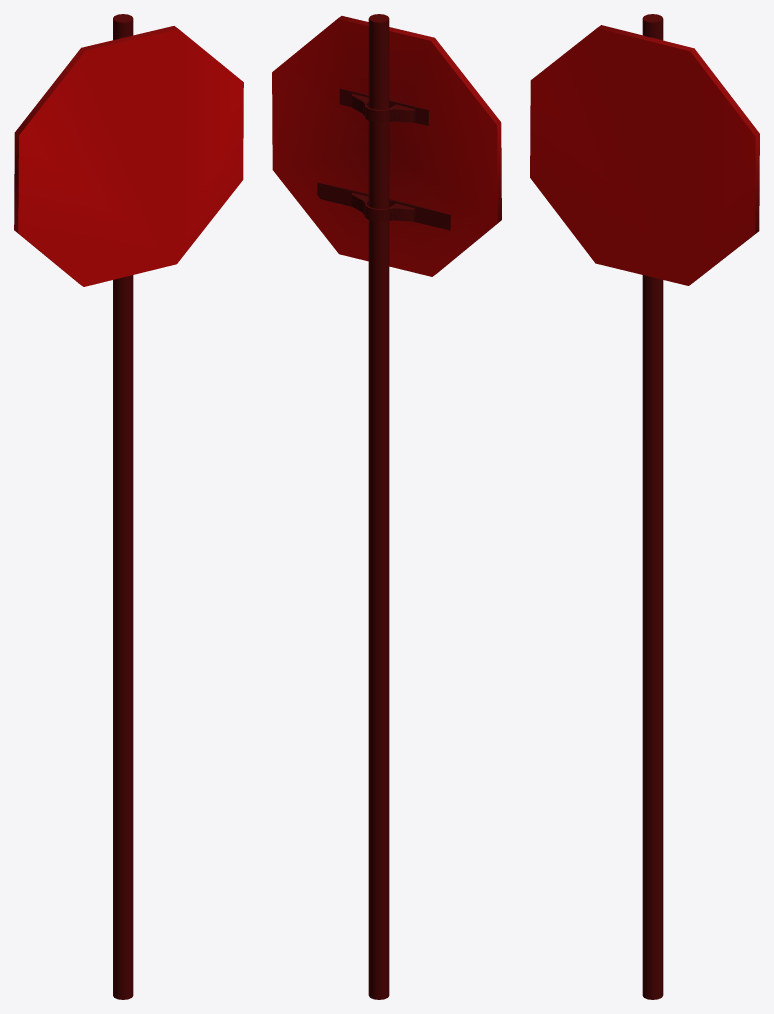
Rendered from Roadsign001.glb.
3 renders of one model, left to right at view 1: azimuth 30°, elevation 25°; view 2: azimuth 150°, elevation 25°; view 3: azimuth 330°, elevation 25°, orthographic.
Visible parts, largest first — view 1: Roadsign001; view 2: Roadsign001; view 3: Roadsign001.
Boxes of the visible parts, x1,y1,x2,y2 form: Roadsign001: (14,14,243,999); Roadsign001: (272,14,501,999); Roadsign001: (530,14,759,999).
Size of the model in its own units: 3.03 by 12.54 by 0.356.
